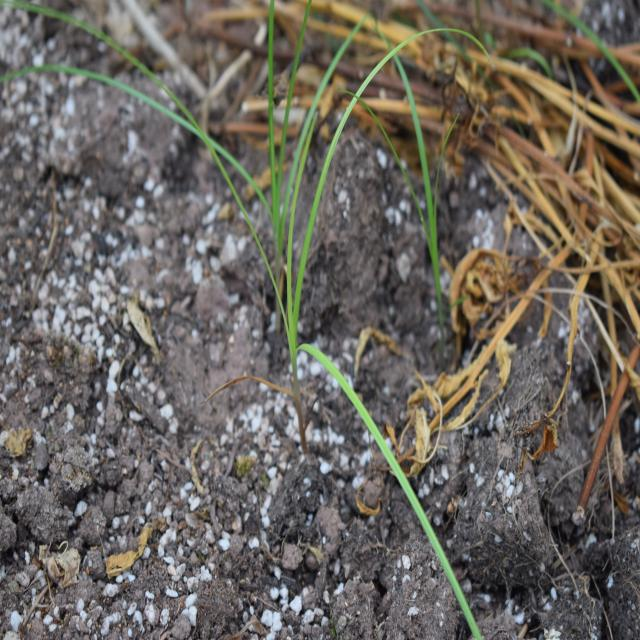sedge: (209, 24, 463, 516)
